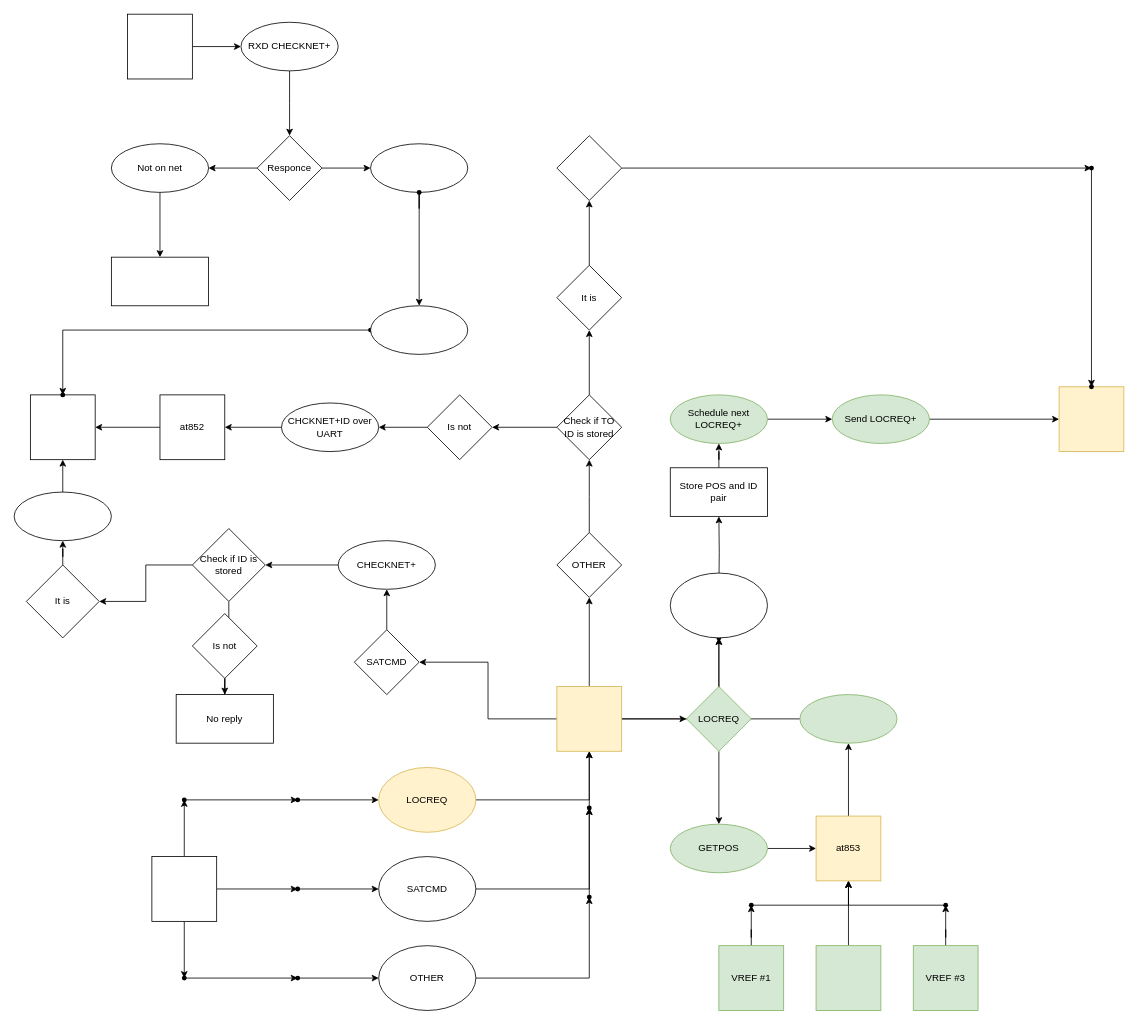
This 1138x1025 diagram has some shape labels left out. The box of each missing label's shape, as (x1, y1, x2, y2) in pixels:
at851: (556, 686, 622, 751)
Drop Message: (111, 256, 209, 306)
HAS+ID+SATID: (13, 491, 111, 541)
HC12 #1: (151, 856, 217, 921)
HC12 #2: (1058, 386, 1124, 452)
HC12 #3 (RX): (127, 13, 192, 79)
HC12 #4 (TX): (30, 394, 95, 460)
On net: (370, 143, 468, 192)
POS and ID calculated: (669, 572, 767, 638)
POS UPDATE: (799, 694, 897, 743)
Send over net: (370, 305, 468, 354)
TX message: (556, 135, 622, 200)
VREF #2: (815, 945, 881, 1010)
